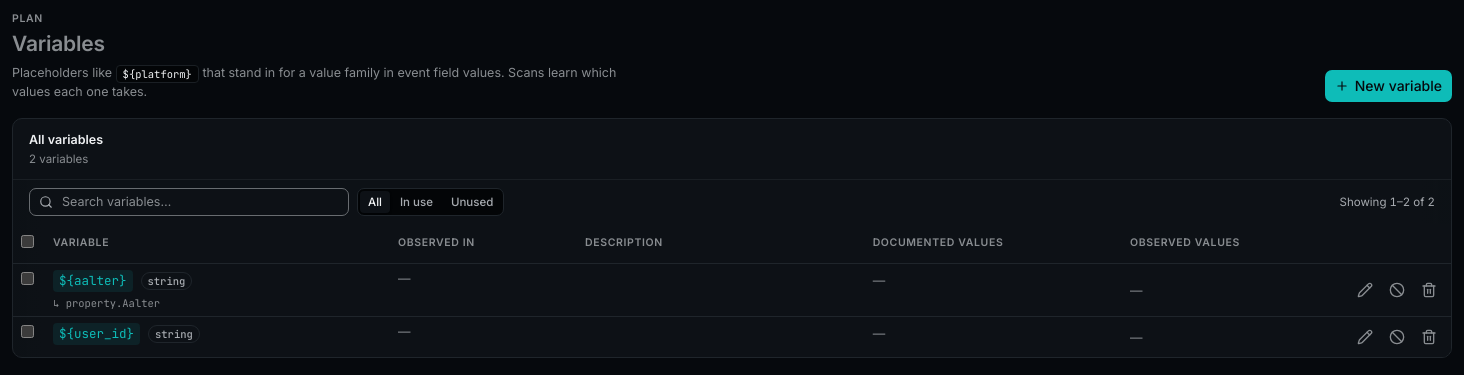
Scenario: VariablesTab › finds a variable by the warehouse path it binds to, not just its display name
Check: the text "${aalter}" is shown, box [53,270,132,292]
In the search field named "Filter variables": {"x": 189, "y": 202} [29,188,349,216], type "property."
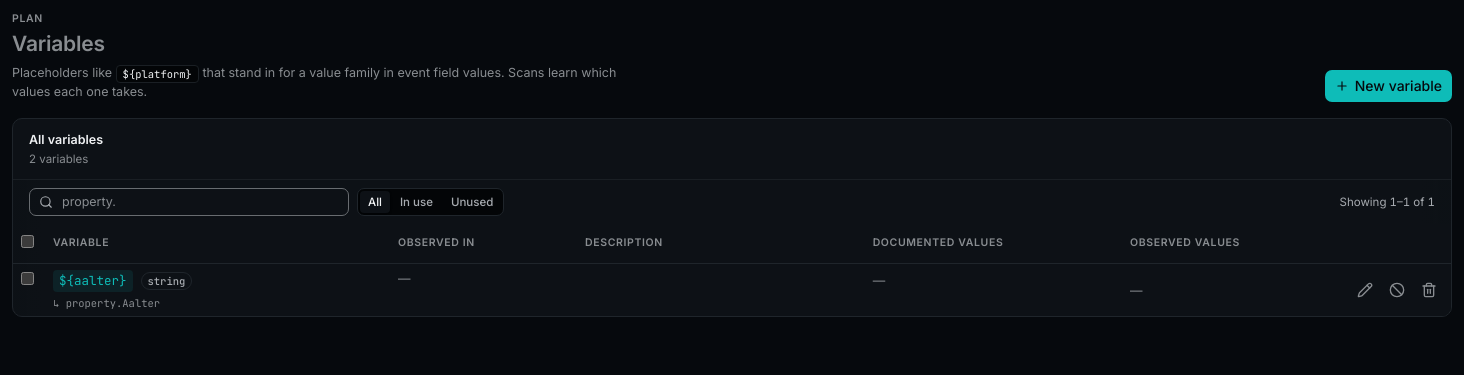
Check: the text "${aalter}" is shown, box [53,270,132,292]
Check: the text "${user_id}" is gone
